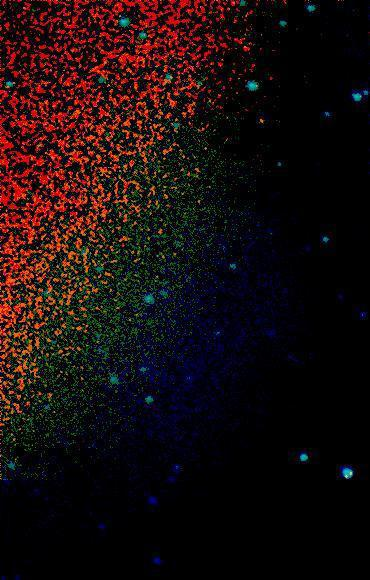star: (245, 105, 275, 135)
